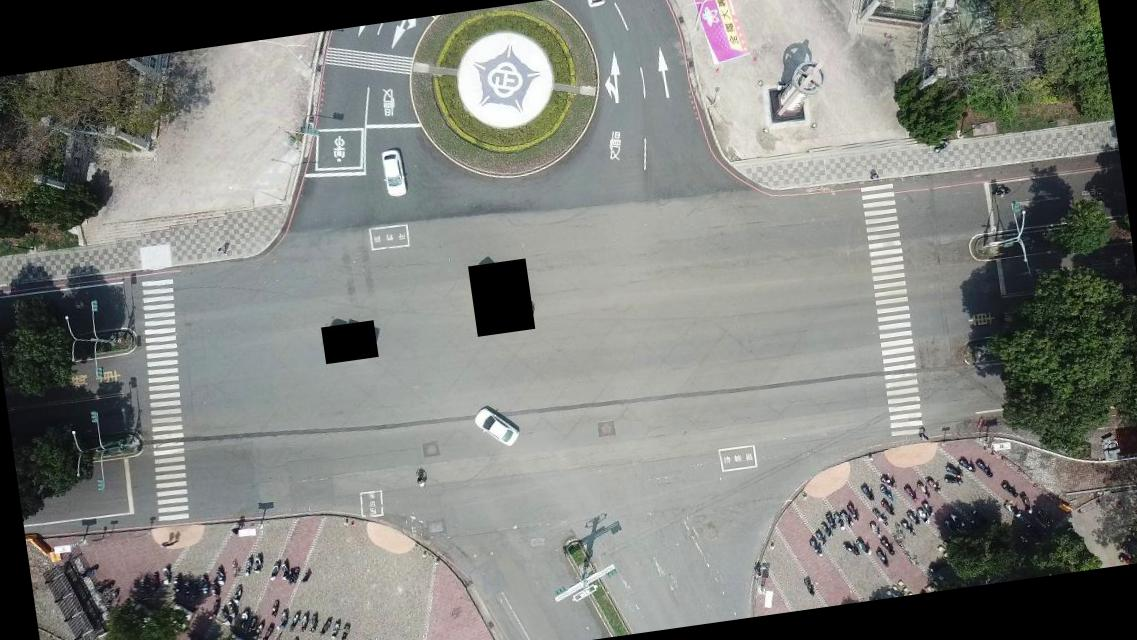vehicle: (472, 402, 521, 452), (378, 147, 410, 200), (586, 0, 610, 9)
